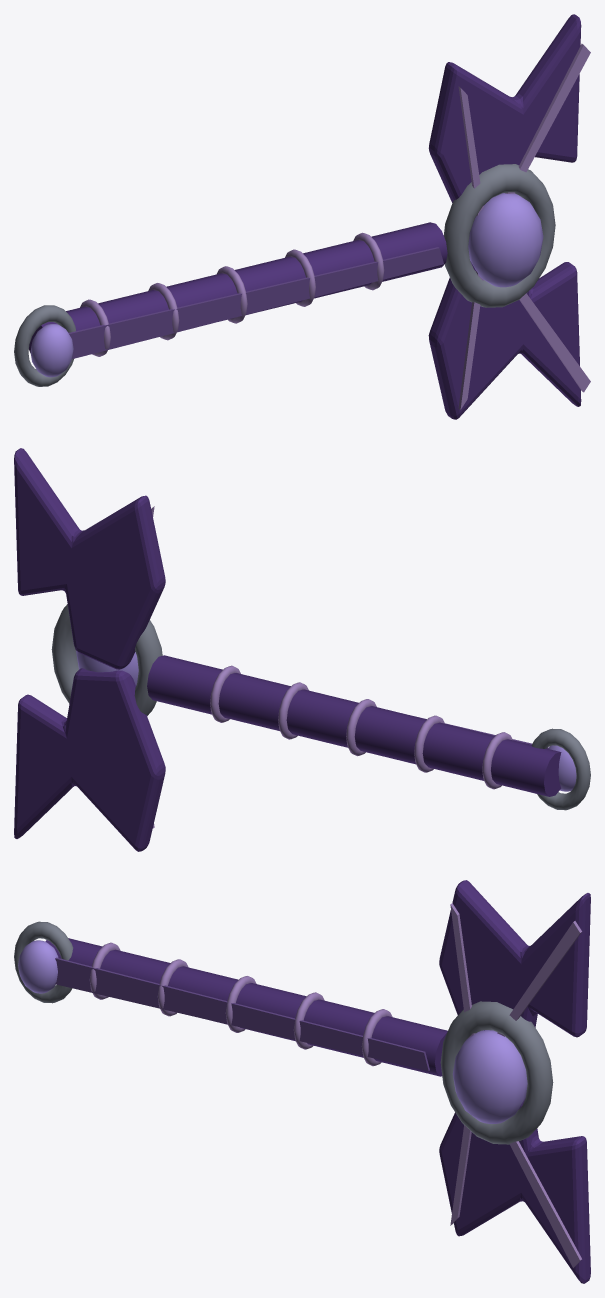
Rendered from wpn_batwand.glb.
3 renders of one model, top to bottom at view 1: azimuth 30°, elevation 25°; view 2: azimuth 150°, elevation 25°; view 3: azimuth 330°, elevation 25°, orthographic.
Parts seen in each view (by area): view 1: object 1, torus.004, torus.003, torus.002, torus.001; view 2: object 1, torus, torus.004, torus.003, torus.001, torus.002; view 3: object 1, torus.004, torus.003, torus.002, torus.001.
Part boxes in pixels (left/top/right/bottom): object 1: left=14, top=14, right=590, bottom=419; torus.004: left=353, top=232, right=384, bottom=290; torus.003: left=285, top=249, right=315, bottom=306; torus.002: left=217, top=266, right=247, bottom=323; torus.001: left=148, top=283, right=179, bottom=340; object 1: left=14, top=448, right=590, bottom=851; torus: left=482, top=732, right=512, bottom=789; torus.004: left=210, top=665, right=240, bottom=722; torus.003: left=278, top=682, right=308, bottom=739; torus.001: left=414, top=715, right=444, bottom=772; torus.002: left=346, top=699, right=376, bottom=756; object 1: left=14, top=880, right=590, bottom=1283; torus.004: left=361, top=1009, right=392, bottom=1066; torus.003: left=293, top=992, right=324, bottom=1049; torus.002: left=225, top=976, right=256, bottom=1032; torus.001: left=157, top=959, right=188, bottom=1016.
Size of the model in its own units: 1.2 by 0.7852 by 0.1597.
